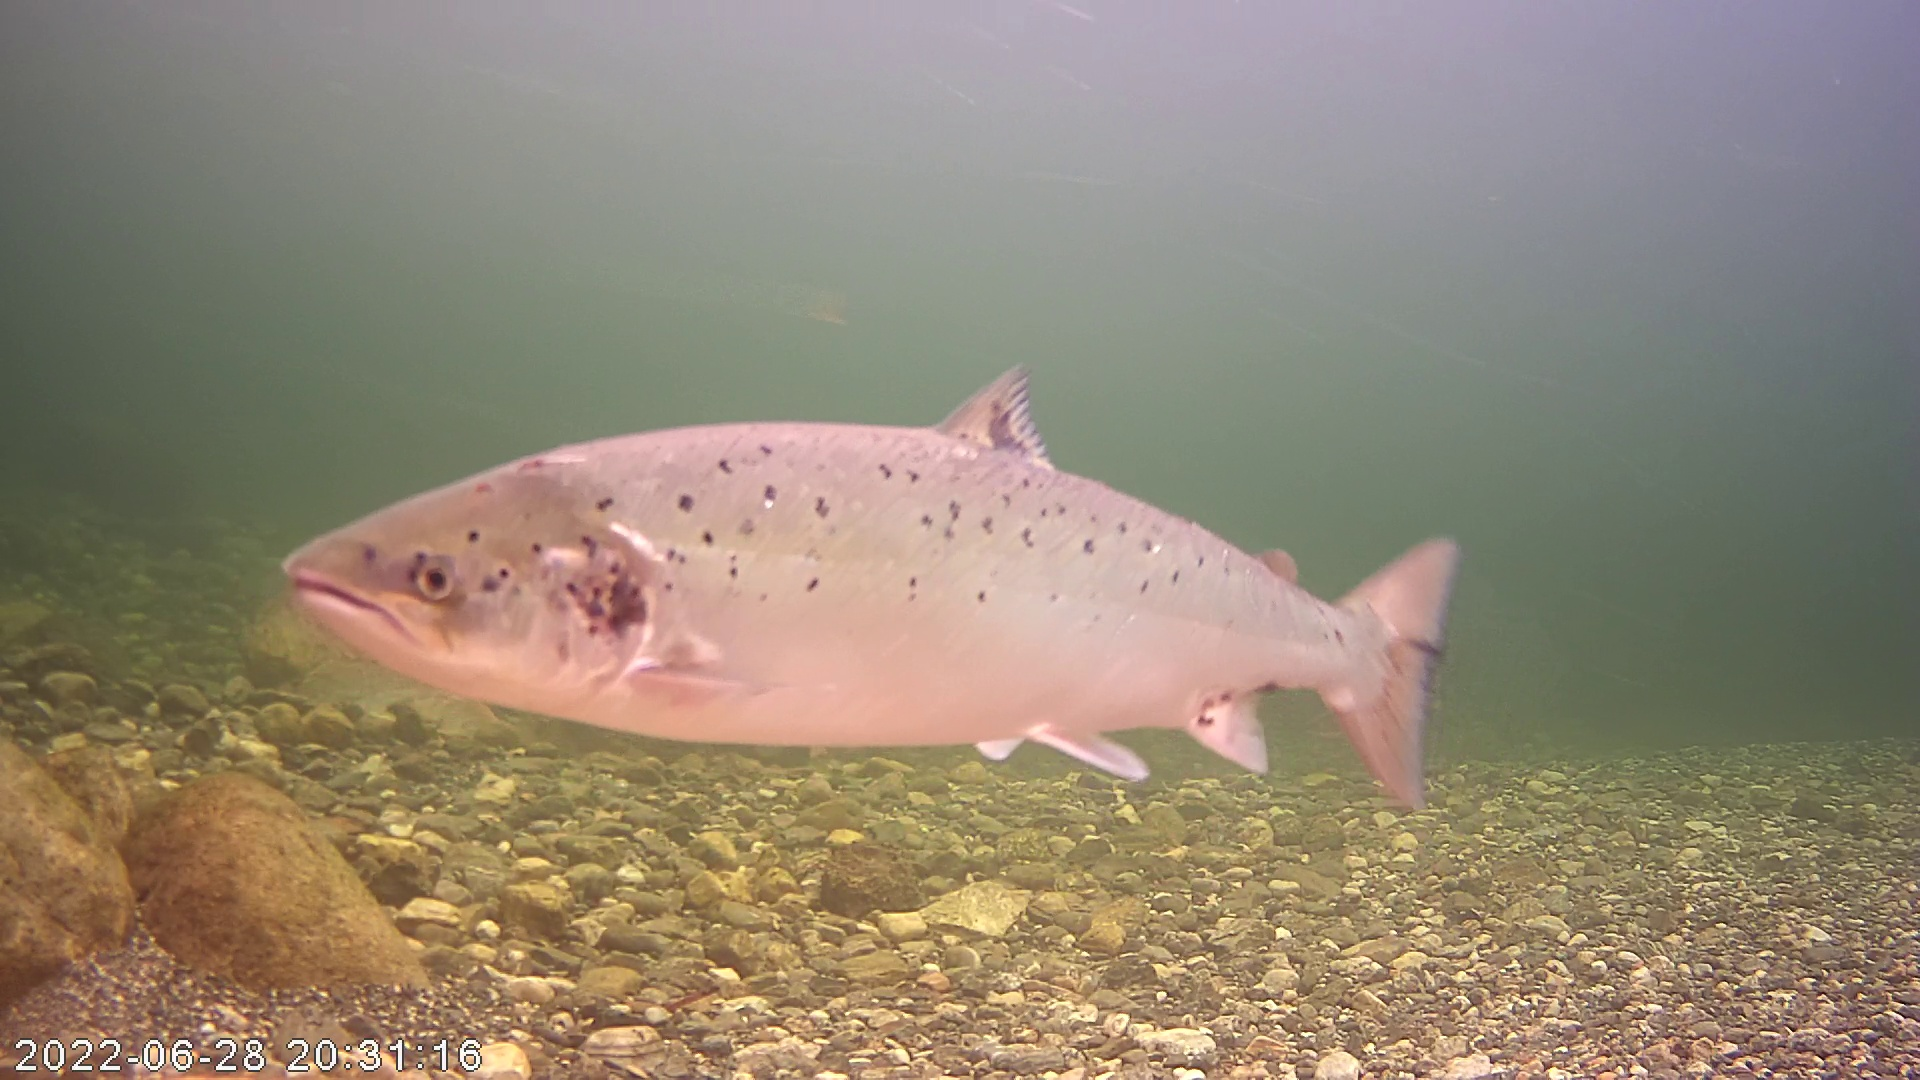salmon: (277, 272, 1394, 760)
